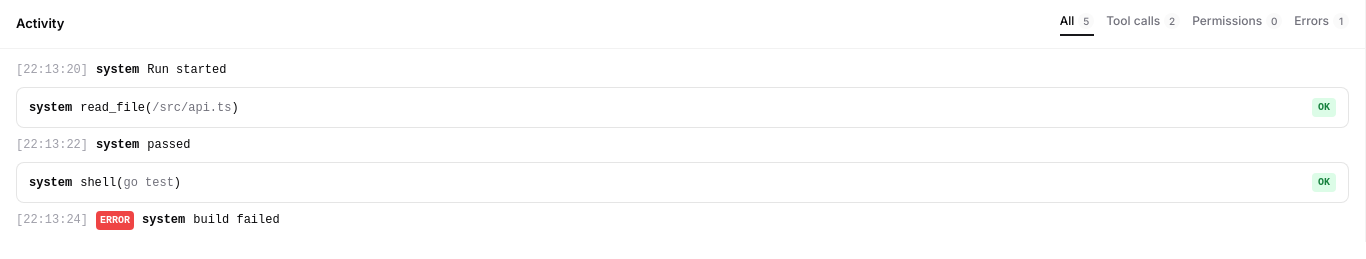
Scenario: ActivityColumn › renders zero event rows when perm tab is selected
Click the tab with test id "activity-tab-perm" at (1237, 24), box [1192,12,1282,36]
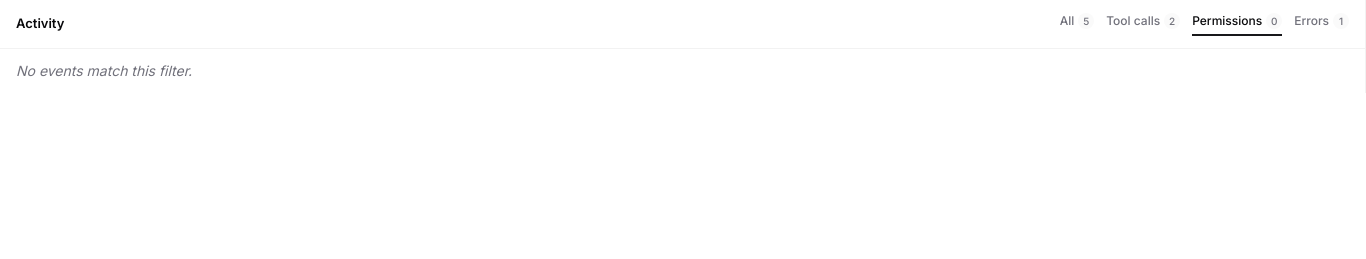
Check: no list items with test id "event-row" are shown
